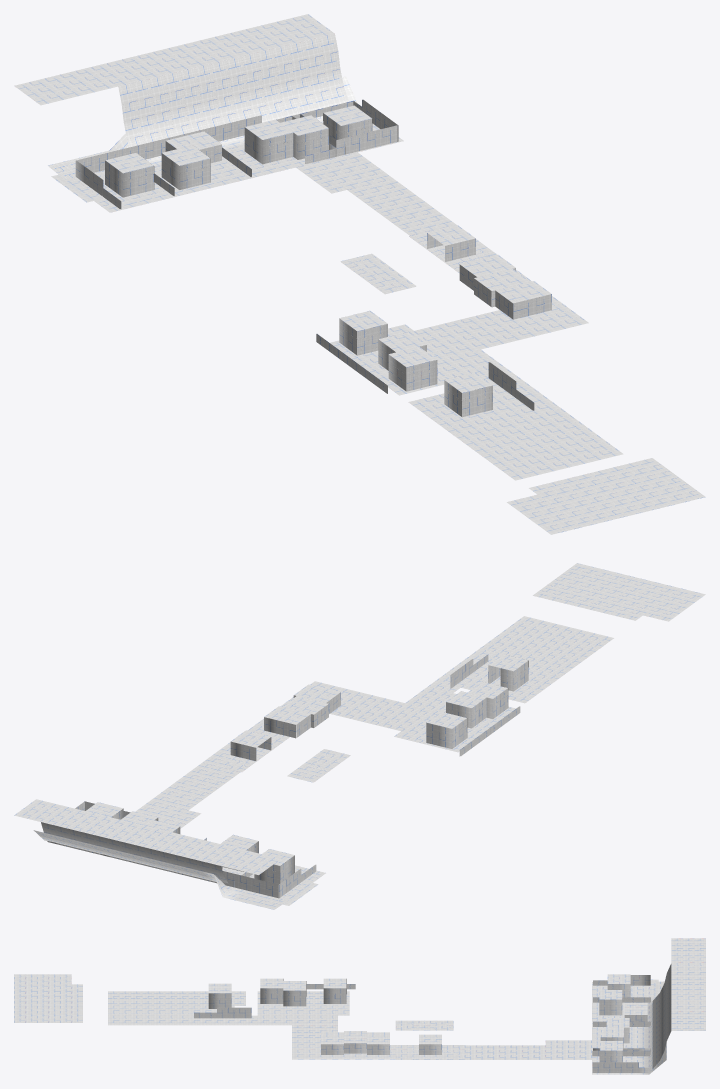
Rendered from Cityparts 1.fbx.
3 renders of one model, top to bottom at view 1: azimuth 30°, elevation 25°; view 2: azimuth 150°, elevation 25°; view 3: azimuth 270°, elevation 25°, orthographic. The views are drawn at different scales.
Parts seen in each view (by area): view 1: City_Center; view 2: City_Center; view 3: City_Center.
Part boxes in pixels (bbox=[...]): City_Center: bbox=[14, 14, 705, 534]; City_Center: bbox=[14, 563, 705, 909]; City_Center: bbox=[14, 938, 705, 1074].
Bounding box in the file's own units: 38.97 × 7.9 × 120.
